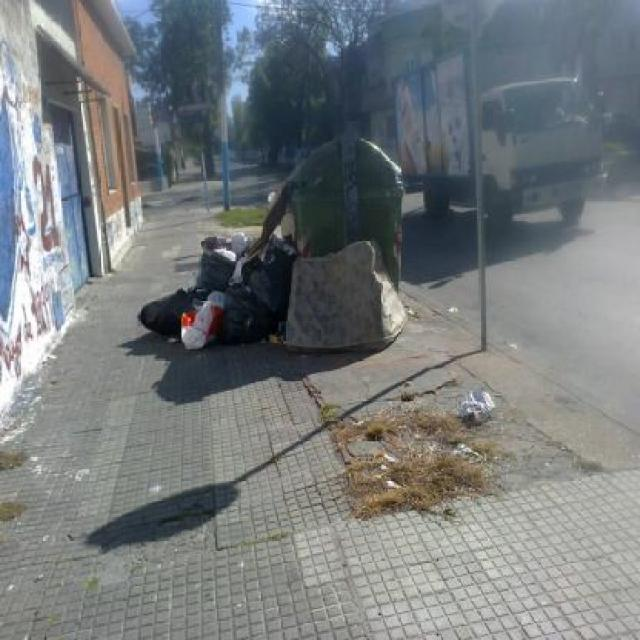garbage: (137, 222, 293, 346)
